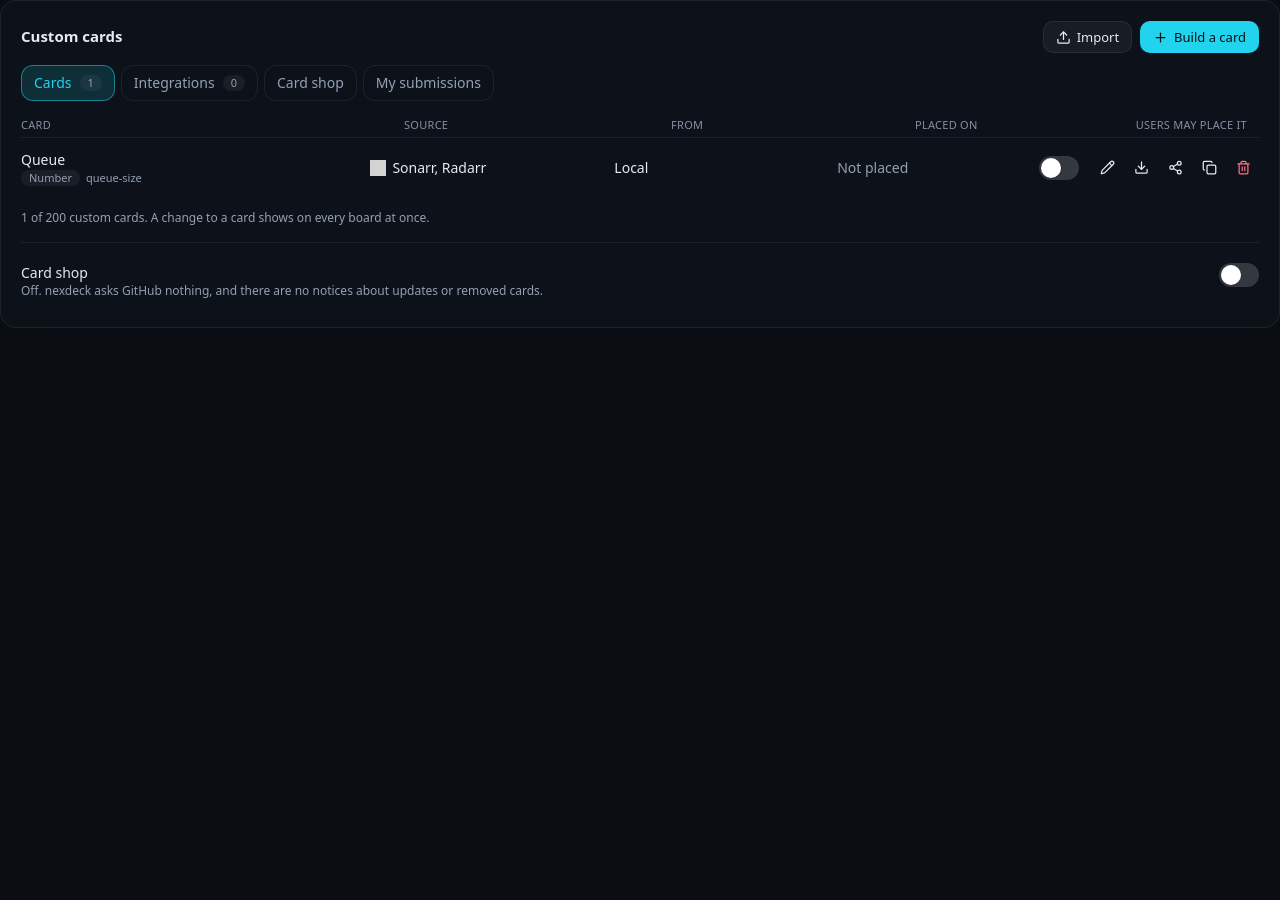
it: changing a card › karten11 ac6: a card on no board is gone at once and the question says so
Click the button named "Delete Queue" at (1243, 168), box [1227,152,1259,184]
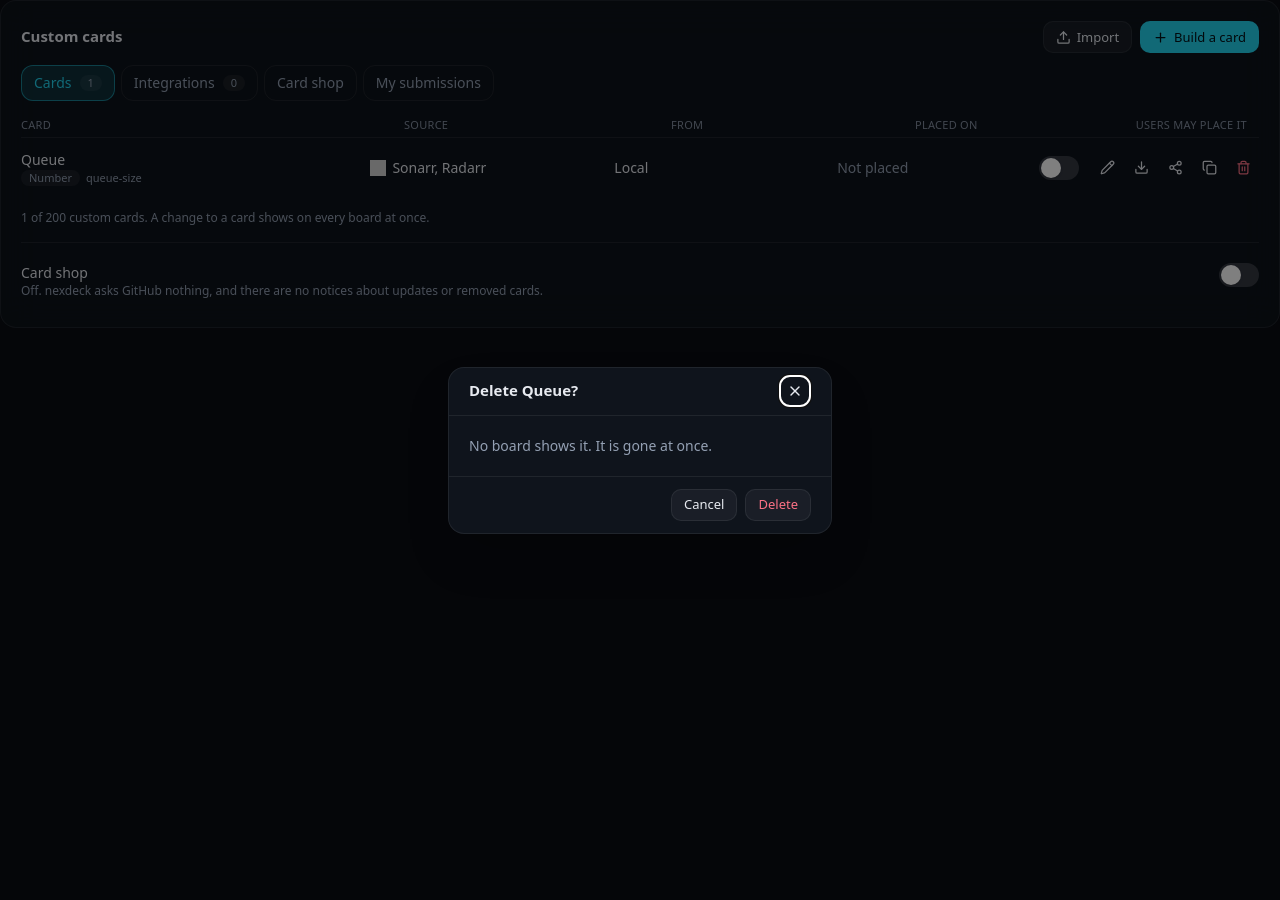
Expected: the text "No board shows it. It is gone at once." is shown, [469,436,712,454]
